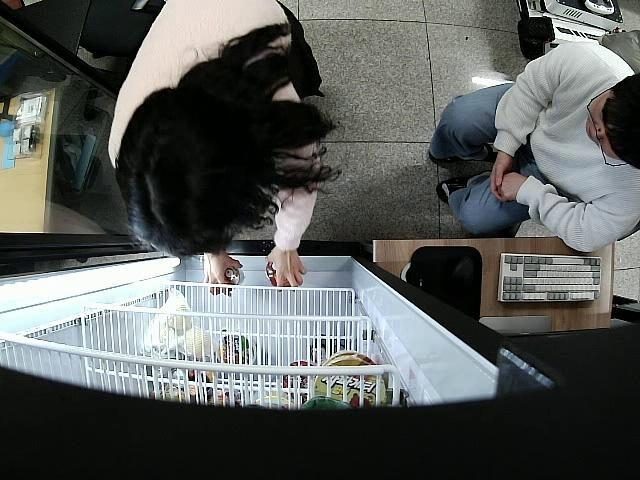06_nuguri_S: (264, 258, 297, 292), (218, 265, 245, 294)
